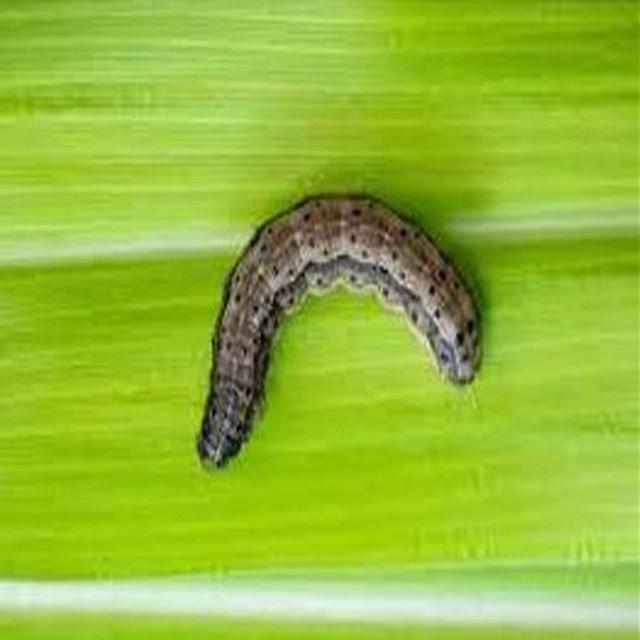Plaga: (196, 190, 484, 470)
